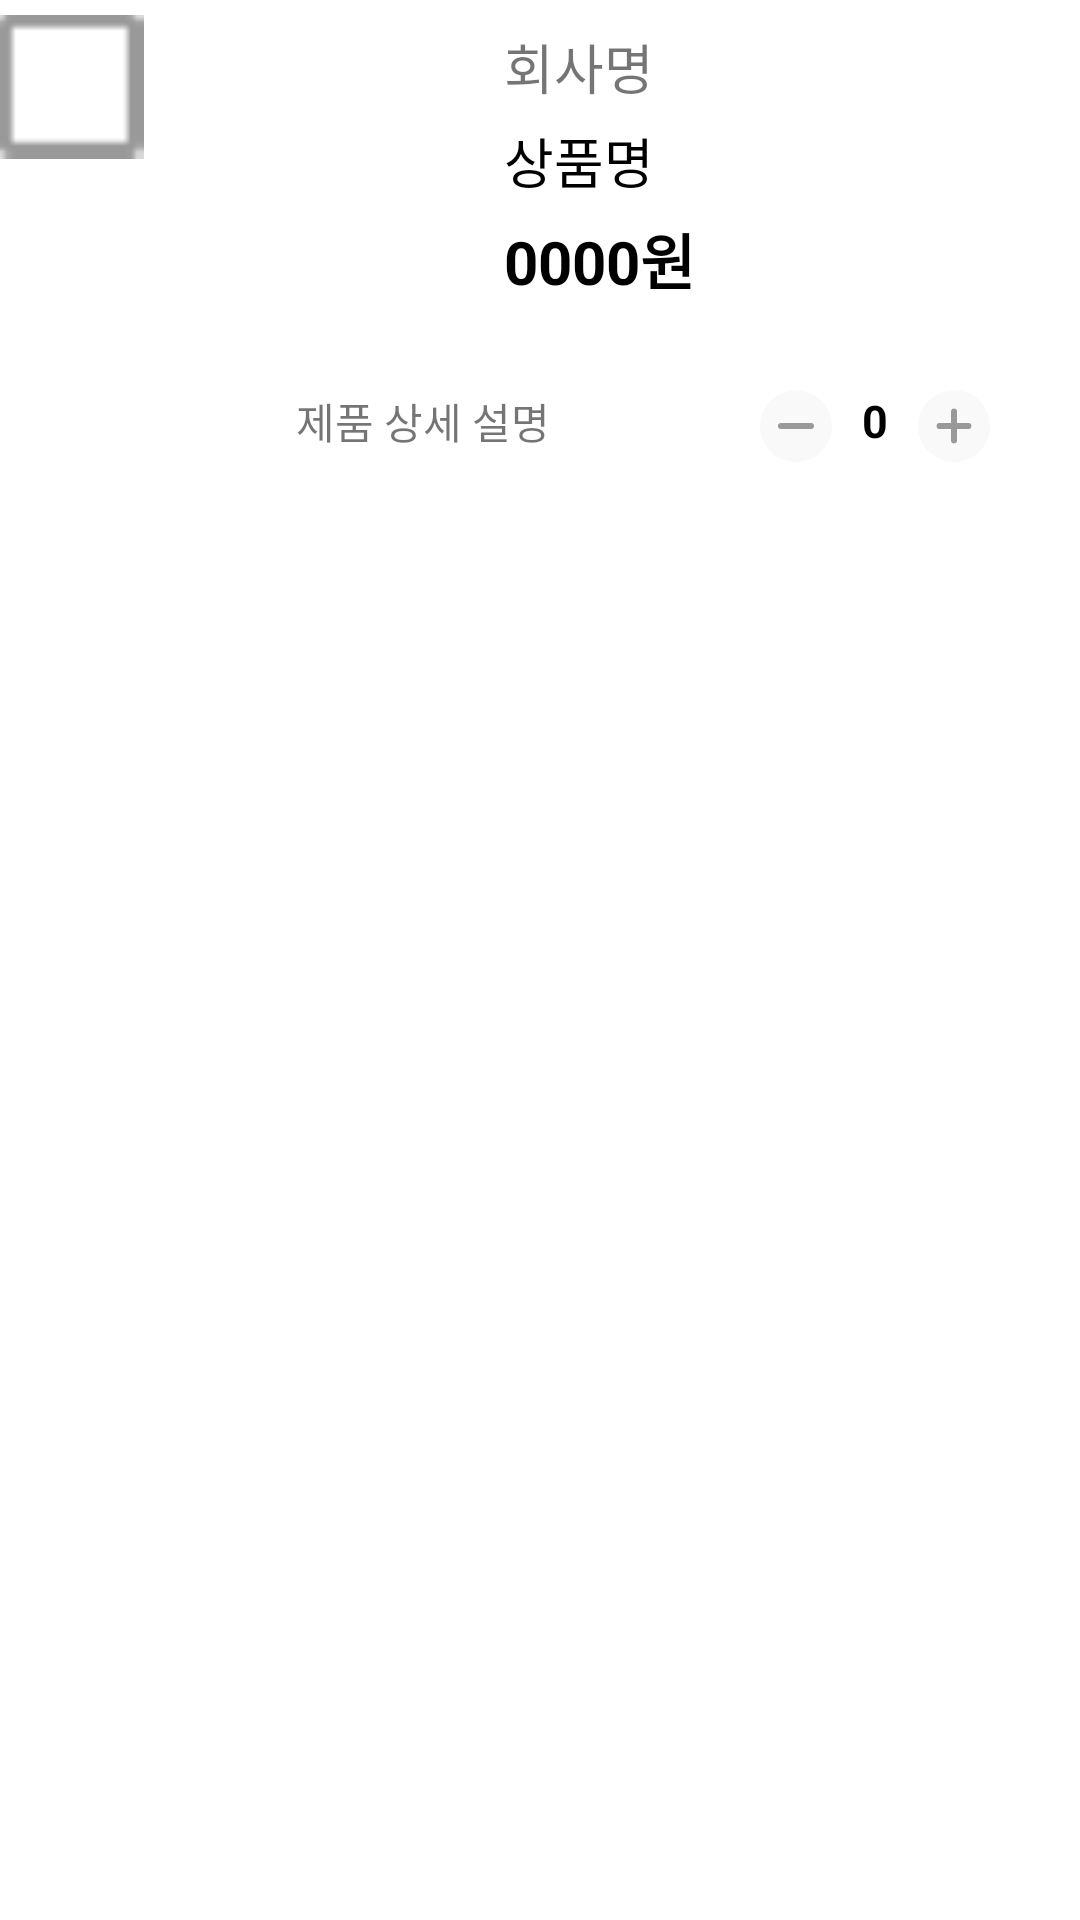

Where to tap for icons on this 1080x1920 app screen, as (x,y):
minus: (796,426)
plus: (954,426)
